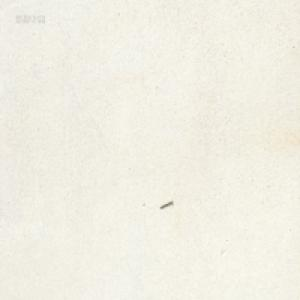Bolt: (159, 200, 172, 210)
